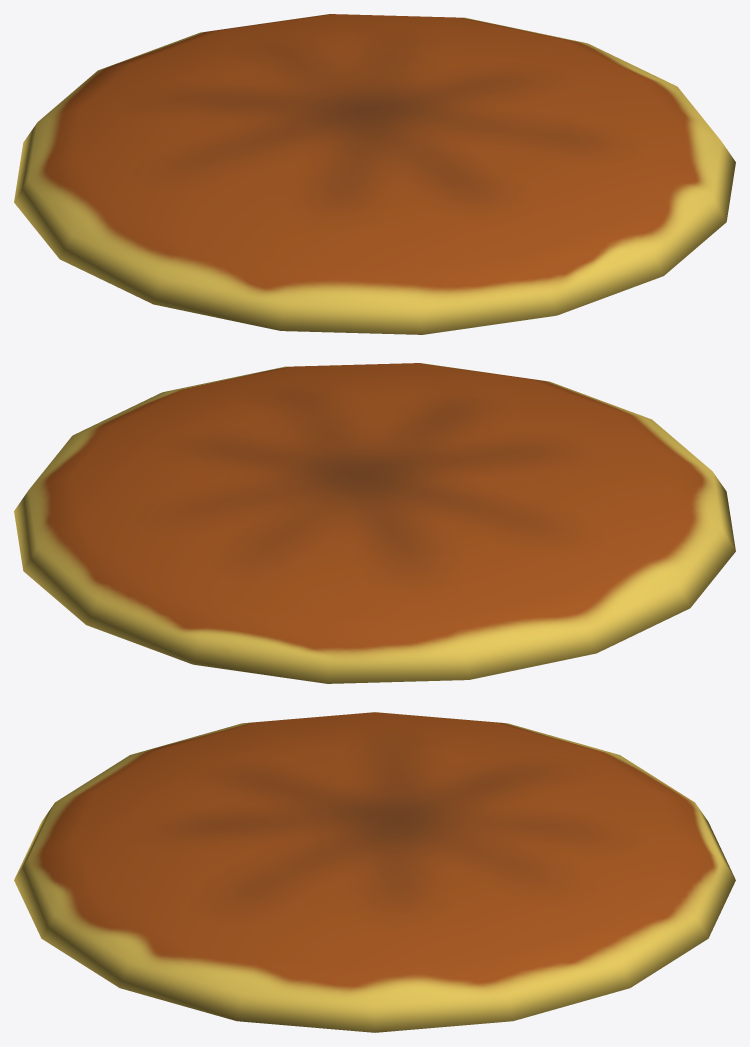
File: wallshroom1.fbx
The picture shows the model from 3 angles, top to bottom: view 1: azimuth 30°, elevation 25°; view 2: azimuth 150°, elevation 25°; view 3: azimuth 270°, elevation 25°; orthographic projection.
Visible parts, largest first — view 1: Wallshroom1; view 2: Wallshroom1; view 3: Wallshroom1.
Part boxes in pixels (x1,y1,x2,y2): Wallshroom1: [14, 14, 735, 334]; Wallshroom1: [14, 363, 735, 683]; Wallshroom1: [14, 712, 735, 1032].
Bounding box in the file's own units: 59.17 × 6.3 × 59.17.
1 material, 1 textured.
